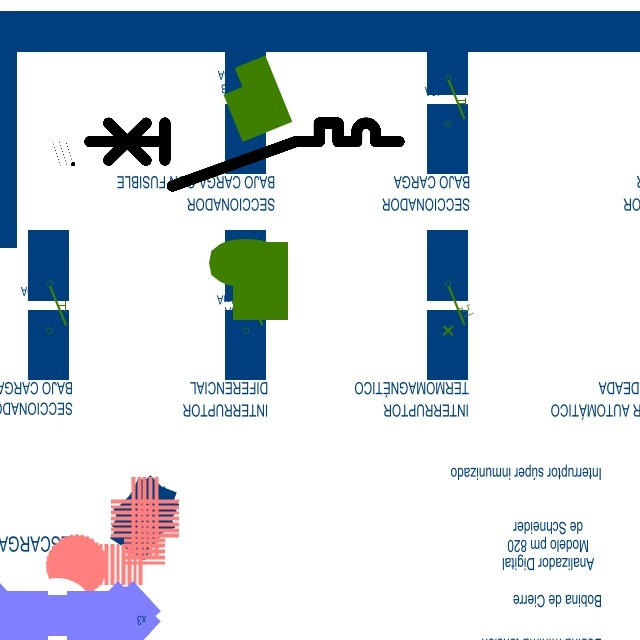interruptor_termomagnetico: (81, 115, 406, 194)
